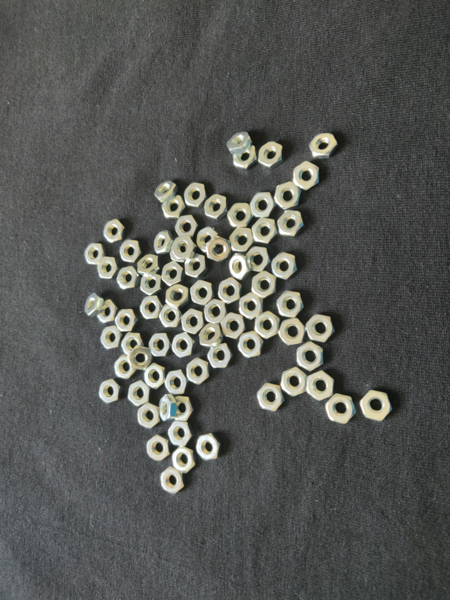nut: (361, 389, 394, 422), (325, 393, 356, 426), (305, 313, 337, 344), (305, 370, 337, 401), (257, 381, 287, 414), (309, 131, 340, 160), (297, 341, 325, 372), (276, 291, 306, 319), (293, 163, 322, 190), (272, 251, 298, 281), (277, 209, 303, 239), (254, 311, 281, 339), (239, 293, 267, 320), (145, 434, 171, 463), (185, 358, 211, 386), (237, 331, 263, 359), (279, 318, 305, 346), (282, 368, 308, 396), (252, 271, 278, 299), (220, 312, 246, 340), (161, 466, 186, 495), (195, 433, 220, 462), (258, 142, 284, 169), (168, 420, 195, 446), (233, 144, 259, 171), (275, 182, 301, 209), (218, 277, 243, 305), (189, 278, 214, 306), (249, 191, 274, 219), (231, 226, 256, 254), (172, 447, 198, 473), (128, 344, 154, 370), (208, 343, 233, 370), (203, 194, 228, 220), (174, 214, 199, 240), (170, 333, 196, 358), (116, 265, 141, 291), (247, 247, 272, 272), (252, 218, 277, 243), (181, 308, 205, 334), (161, 194, 185, 220), (99, 324, 122, 351), (227, 132, 255, 154), (165, 369, 187, 397), (207, 236, 230, 262), (200, 324, 224, 348), (102, 218, 125, 243), (140, 271, 163, 296), (158, 303, 181, 328), (98, 379, 121, 404), (137, 403, 160, 428), (149, 332, 171, 358), (144, 363, 166, 389), (185, 254, 209, 277), (139, 296, 161, 321), (114, 355, 136, 380), (167, 283, 189, 308), (120, 240, 143, 263), (128, 382, 150, 406), (115, 308, 137, 332), (185, 183, 207, 207), (171, 238, 195, 260), (162, 262, 183, 287), (137, 254, 160, 276), (155, 181, 178, 203), (97, 299, 117, 324), (229, 254, 248, 280), (84, 243, 106, 265), (205, 302, 227, 324), (122, 333, 143, 356), (196, 227, 217, 250), (160, 395, 177, 423), (86, 292, 104, 318), (155, 229, 173, 255), (98, 256, 117, 280), (176, 396, 194, 421)
